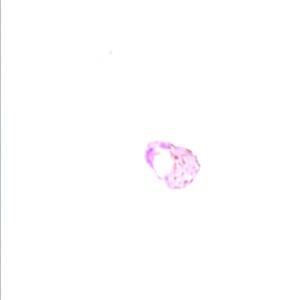Infected: (145, 135, 202, 192)
